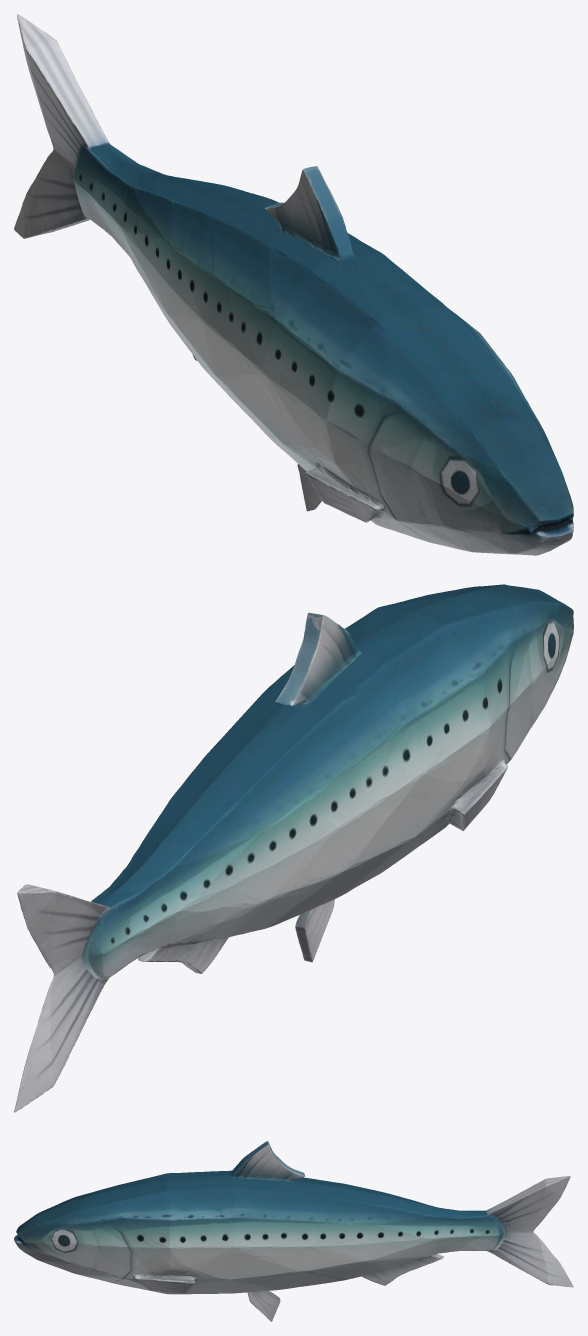
Rendered from meshy-sardine.glb.
3 renders of one model, top to bottom at view 1: azimuth 30°, elevation 25°; view 2: azimuth 150°, elevation 25°; view 3: azimuth 270°, elevation 25°, orthographic. The views are drawn at different scales.
Visible parts, largest first — view 1: mesh_node; view 2: mesh_node; view 3: mesh_node.
Part boxes in pixels (<box>): mesh_node: <box>14,14,573,555</box>; mesh_node: <box>14,584,573,1112</box>; mesh_node: <box>14,1141,573,1321</box>.
Bounding box in the file's own units: 0.3279 × 0.6632 × 1.9.
1 material, 1 textured.
